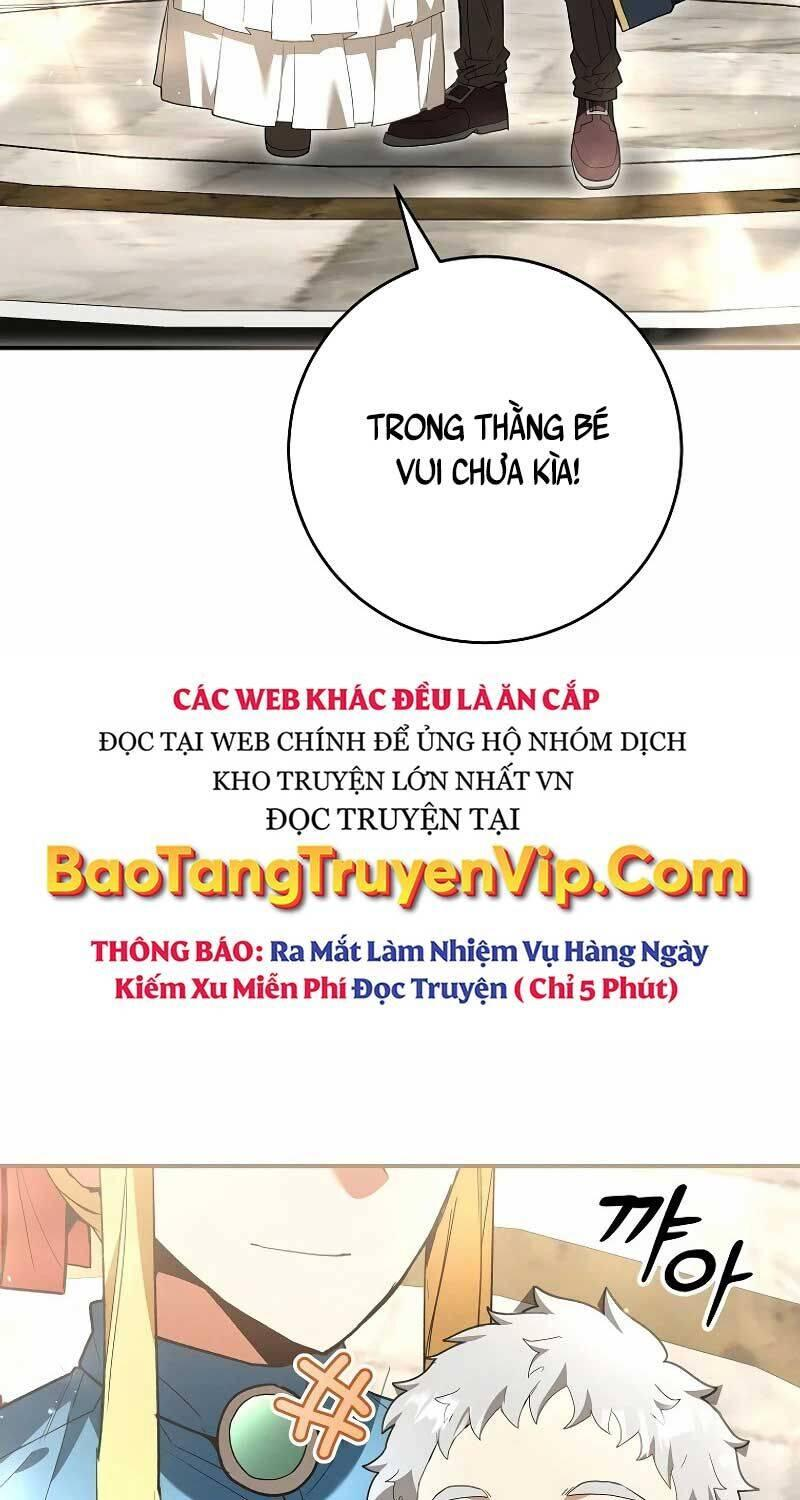quangcao: (48, 676, 770, 1020)
